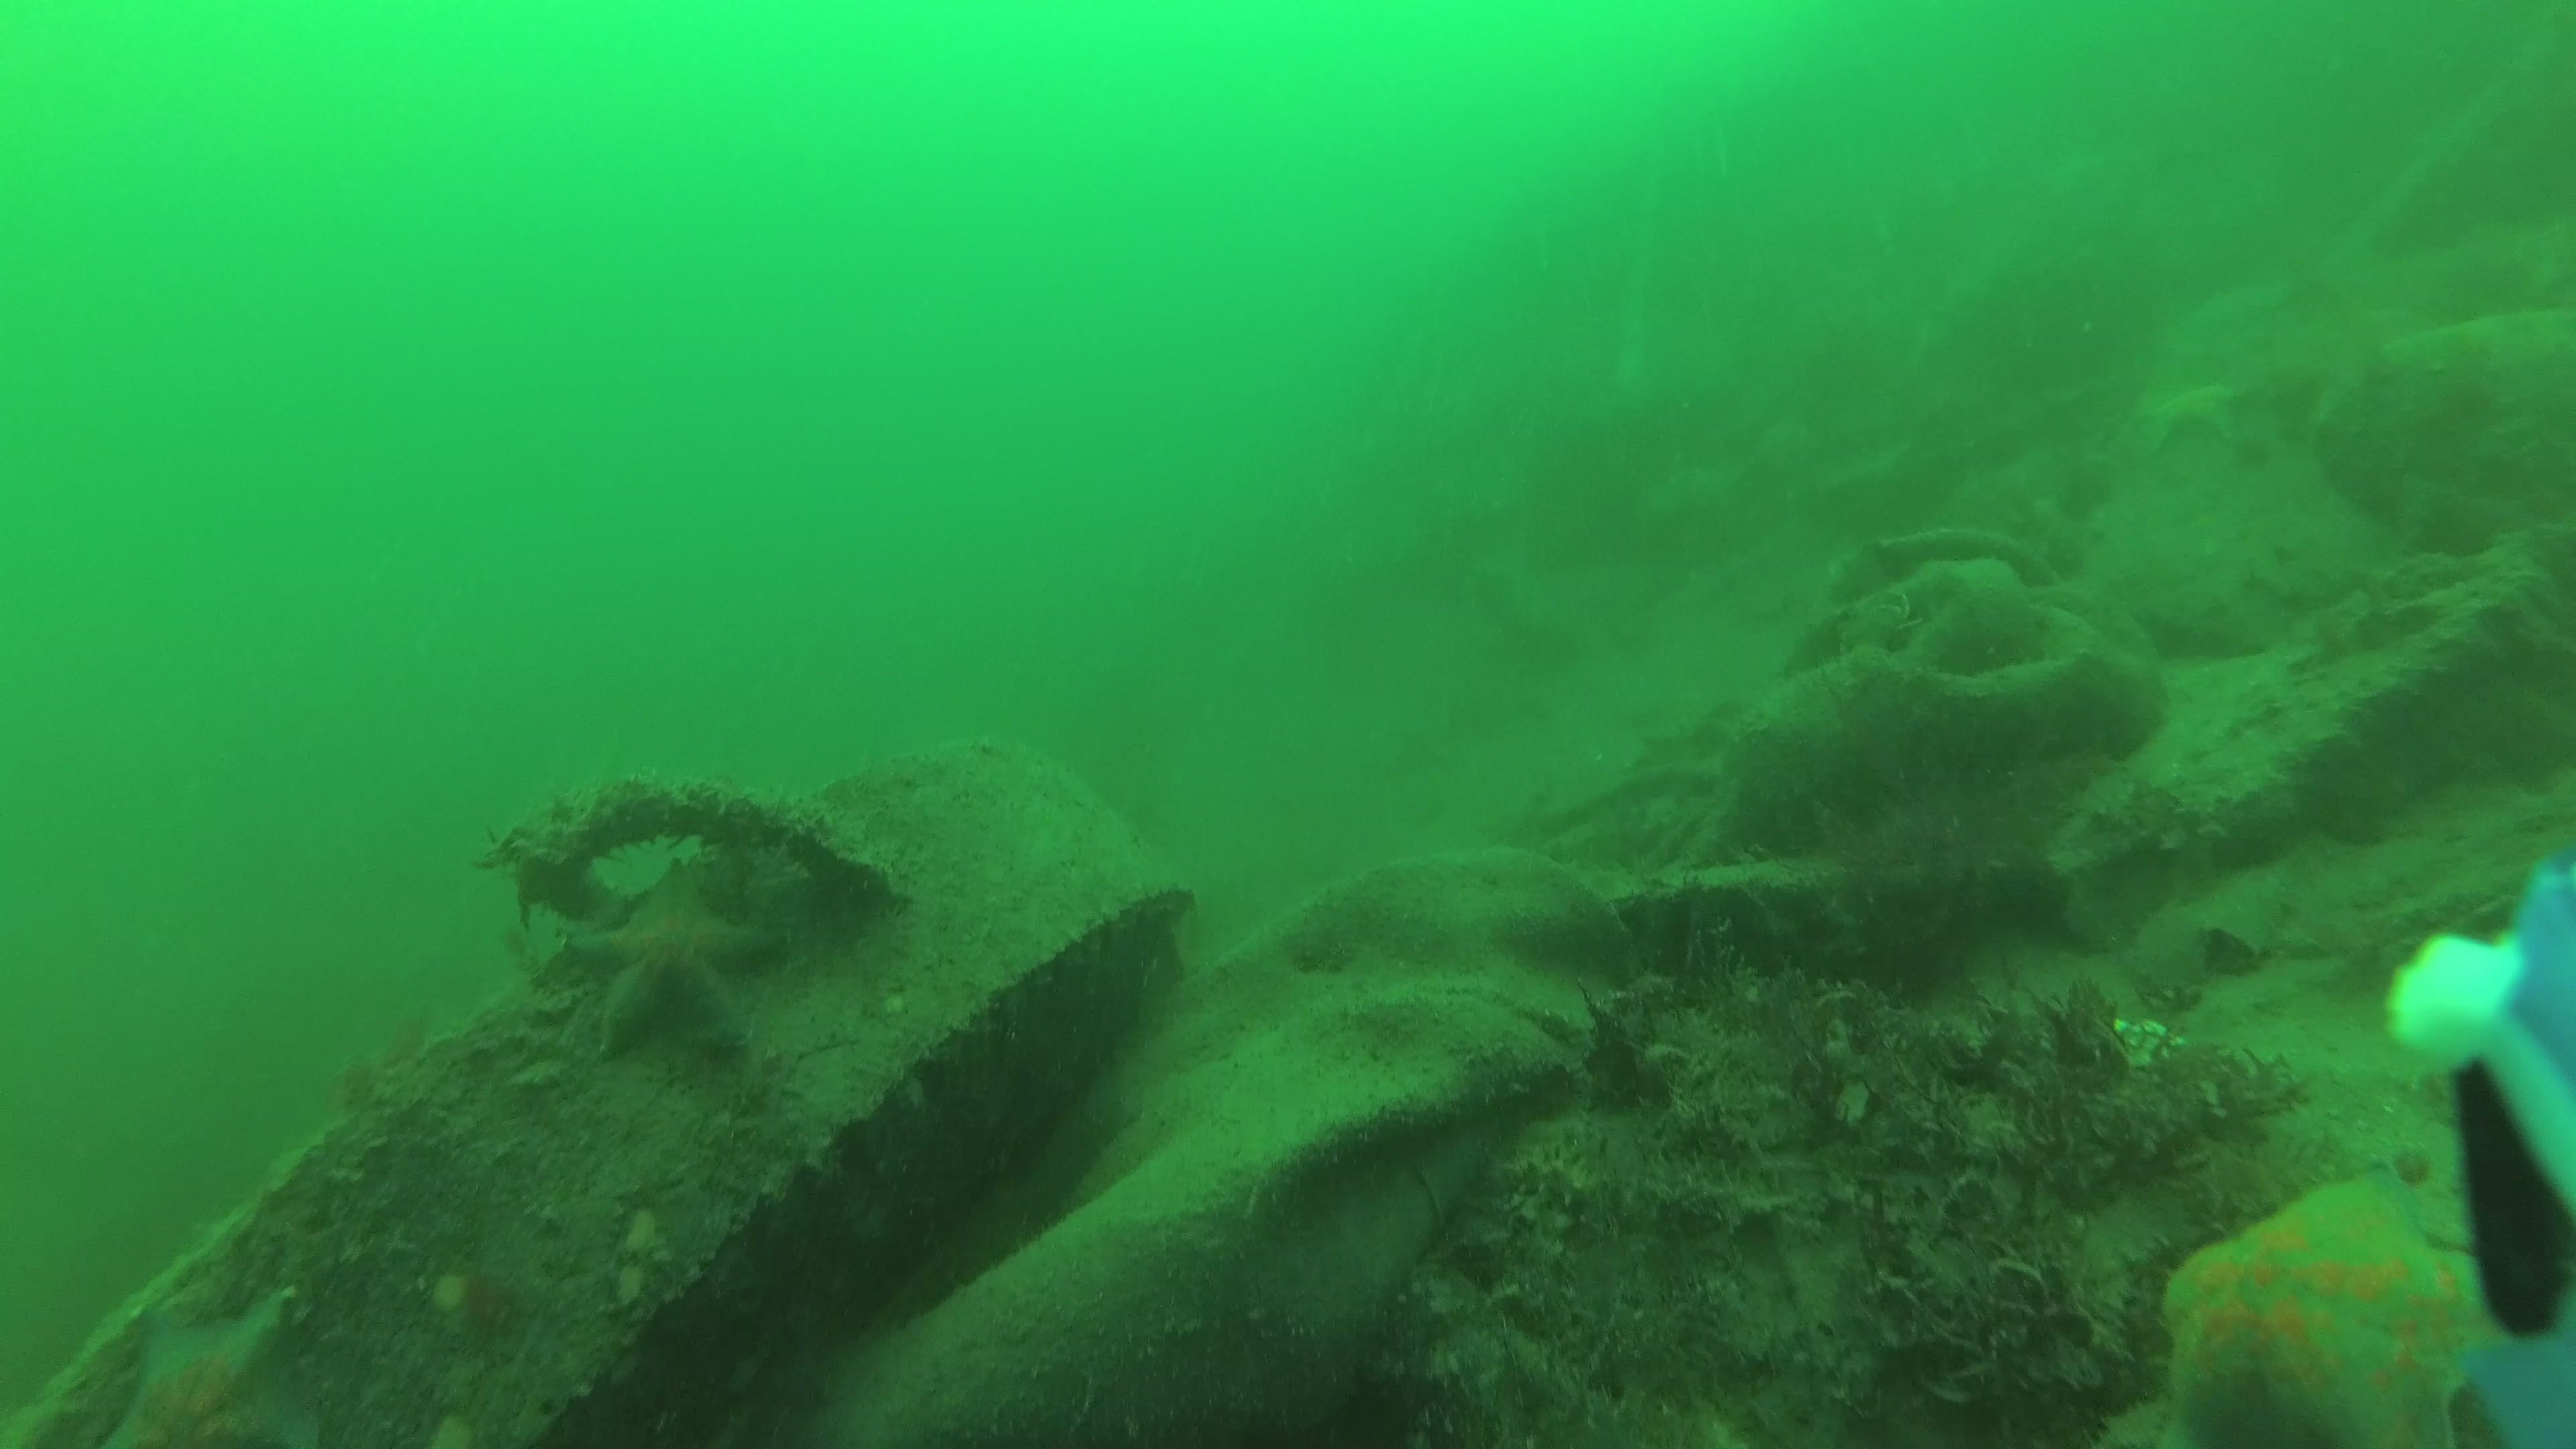starfish: (2167, 1173, 2493, 1449), (571, 862, 777, 1054), (113, 1292, 322, 1449), (2144, 384, 2247, 453)
